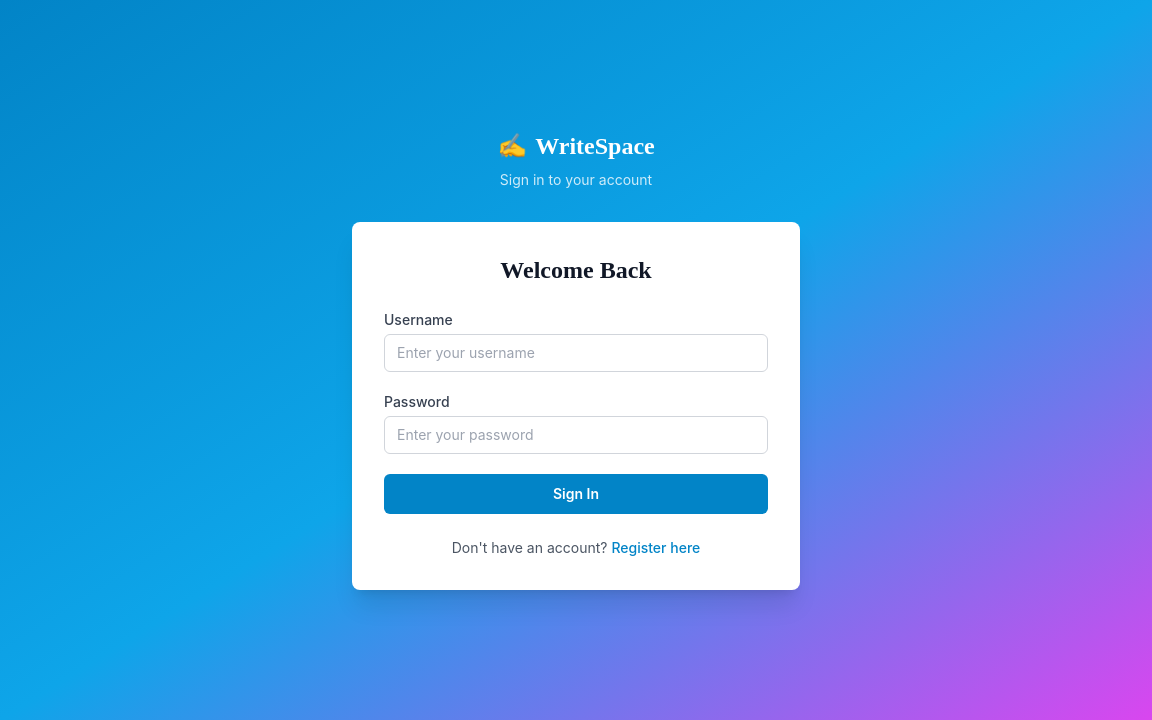
Test: LoginPage › failed login error display › displays error when username is empty
Type "somepass" into the password field labelled "Password" at (576, 435), box [384,416,768,454]
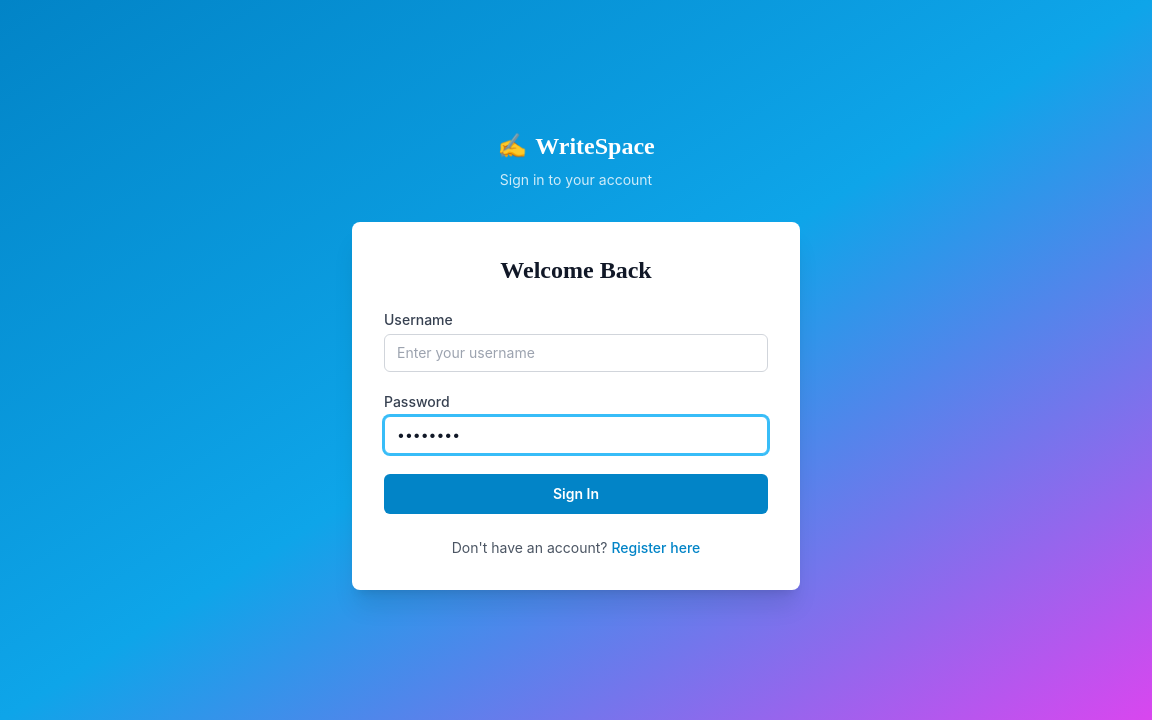
Click the button "Sign In" at (576, 494), box [384,474,768,514]
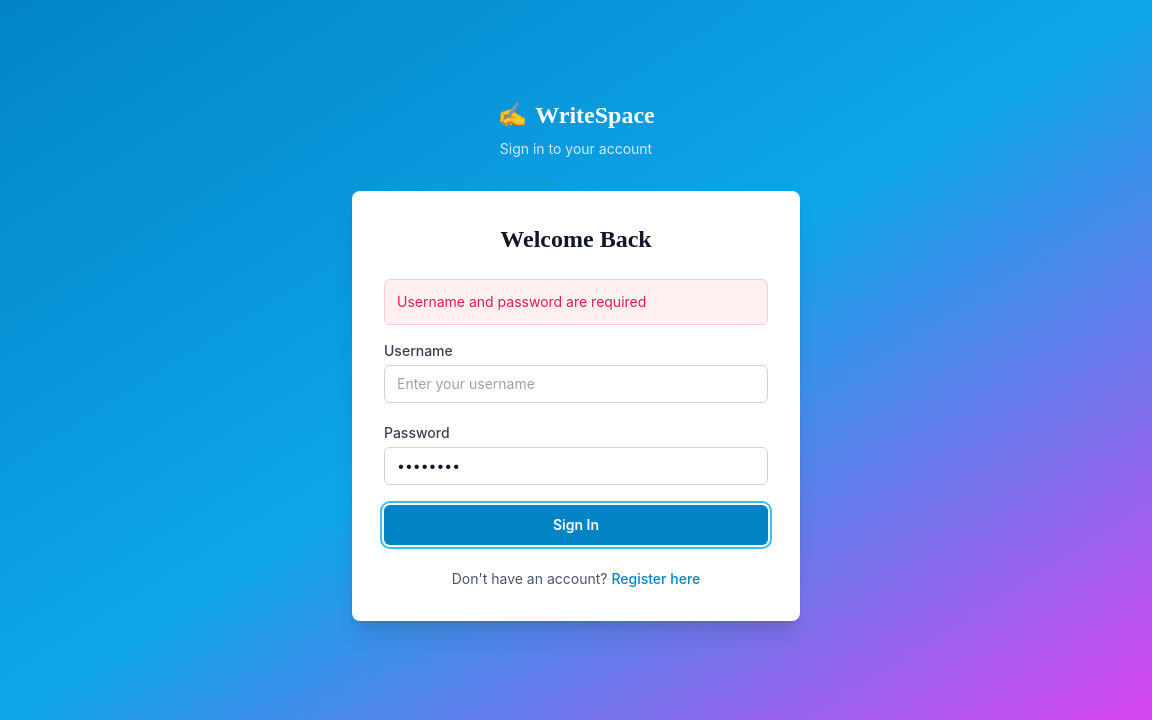
Check: the text "Username and password are required" is shown, box [397,293,646,310]
